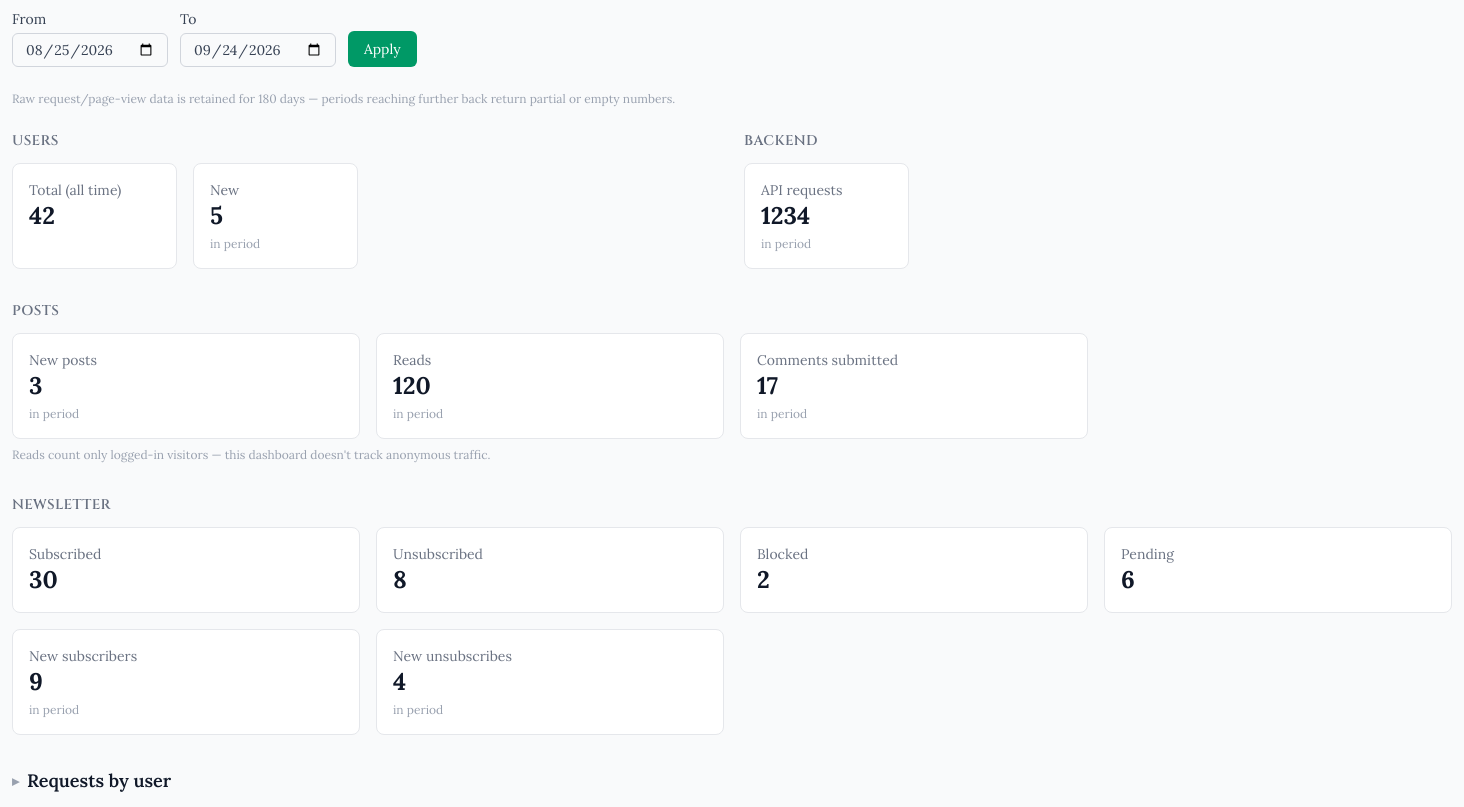
AnalyticsPage › fetches and shows the requests-by-user table only once expanded
(page scrolled)
expect the text "42" is shown: met, box x1=29 y1=200 x2=55 y2=231
Step 1. Click the button "▸ Requests by user" → (92, 781), box x1=12 y1=767 x2=171 y2=795
(page scrolled)
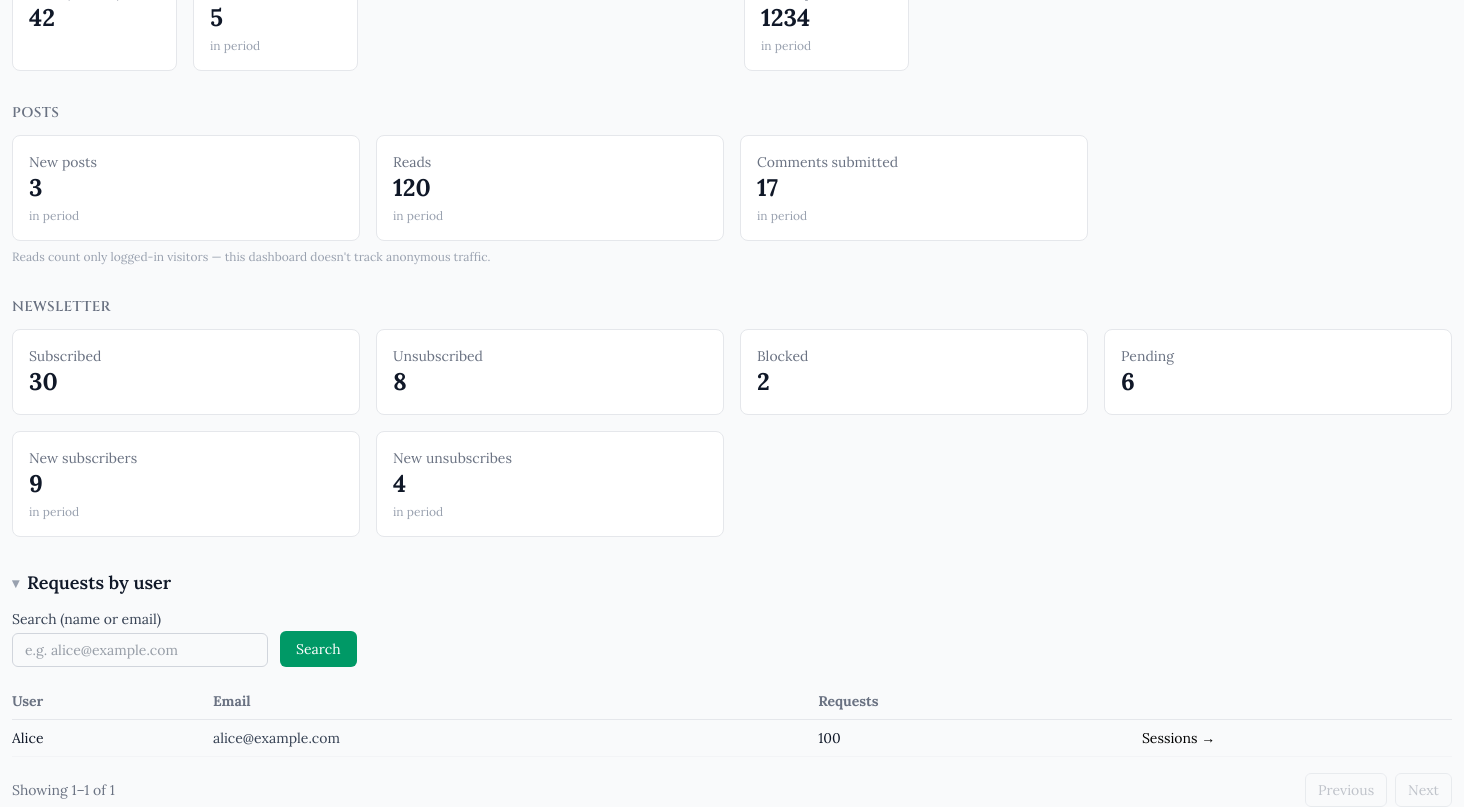
expect the text "Alice" is shown: met, box x1=12 y1=720 x2=213 y2=756
expect the text "alice@example.com" is shown: met, box x1=213 y1=720 x2=818 y2=756
expect the text "100" is shown: met, box x1=818 y1=720 x2=1142 y2=756
